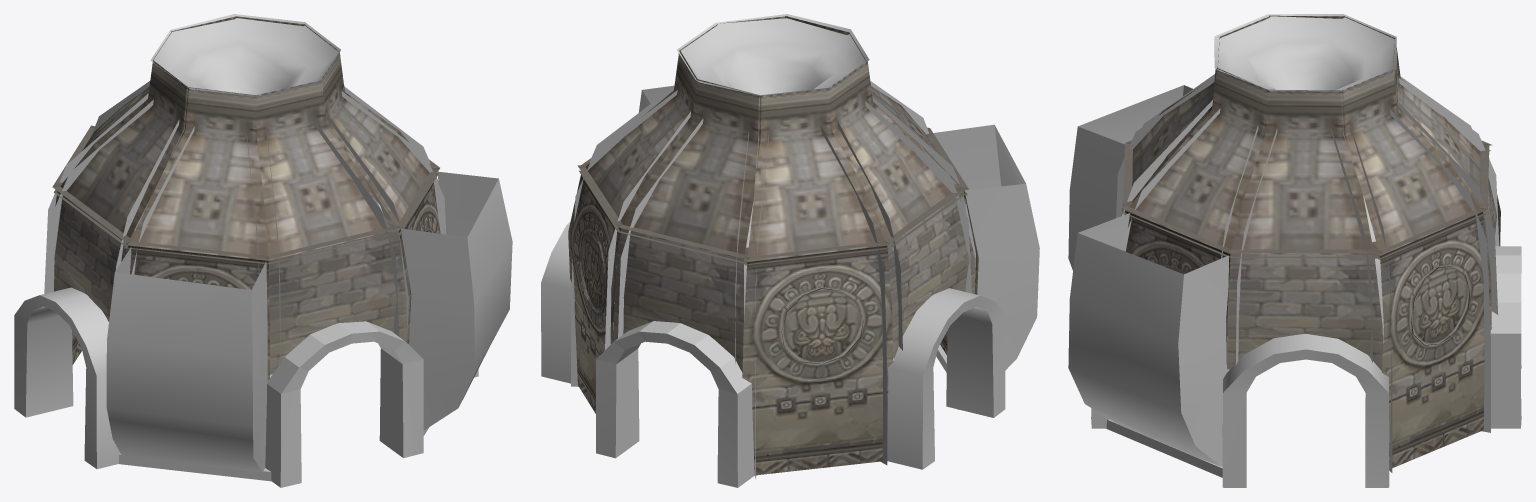
File: Lv_6_dating_2.FBX
3 renders of one model, left to right at view 1: azimuth 30°, elevation 25°; view 2: azimuth 150°, elevation 25°; view 3: azimuth 270°, elevation 25°, orthographic.
Parts seen in each view (by area): view 1: DN_tushuguan_tongdao_c1, DN_tushuguan_tongdao_c2, DN_tushuguan_tongdao_c7, DN_tushuguan_tongdao_c8, DN_tushuguan_tongdao_c6, DN_tushuguan_tongdao_c3, DN_tushuguan_tongdao_c5, DN_tushuguan_tongdao_c4; view 2: DN_tushuguan_tongdao_c1, DN_tushuguan_tongdao_c2, DN_tushuguan_tongdao_c7; view 3: DN_tushuguan_tongdao_c1, DN_tushuguan_tongdao_c2, DN_tushuguan_tongdao_c8, DN_tushuguan_tongdao_c7, DN_tushuguan_tongdao_c6, DN_tushuguan_tongdao_c5, DN_tushuguan_tongdao_c4.
Boxes of the visible parts, x1,y1,x2,y2 form: DN_tushuguan_tongdao_c1: (52,16,439,364); DN_tushuguan_tongdao_c2: (14,14,478,468); DN_tushuguan_tongdao_c7: (106,247,267,472); DN_tushuguan_tongdao_c8: (397,171,512,430); DN_tushuguan_tongdao_c6: (127,182,440,379); DN_tushuguan_tongdao_c3: (265,321,423,487); DN_tushuguan_tongdao_c5: (119,427,429,481); DN_tushuguan_tongdao_c4: (256,203,399,367); DN_tushuguan_tongdao_c1: (568,16,974,475); DN_tushuguan_tongdao_c2: (541,14,1005,487); DN_tushuguan_tongdao_c7: (933,124,1039,370); DN_tushuguan_tongdao_c1: (1120,15,1500,468); DN_tushuguan_tongdao_c2: (1134,14,1521,487); DN_tushuguan_tongdao_c8: (1068,213,1228,466); DN_tushuguan_tongdao_c7: (1068,85,1192,270); DN_tushuguan_tongdao_c6: (1121,201,1268,371); DN_tushuguan_tongdao_c5: (1106,419,1222,477); DN_tushuguan_tongdao_c4: (1116,124,1148,251).
Bounding box in the file's own units: 2841 × 2269 × 2719.
